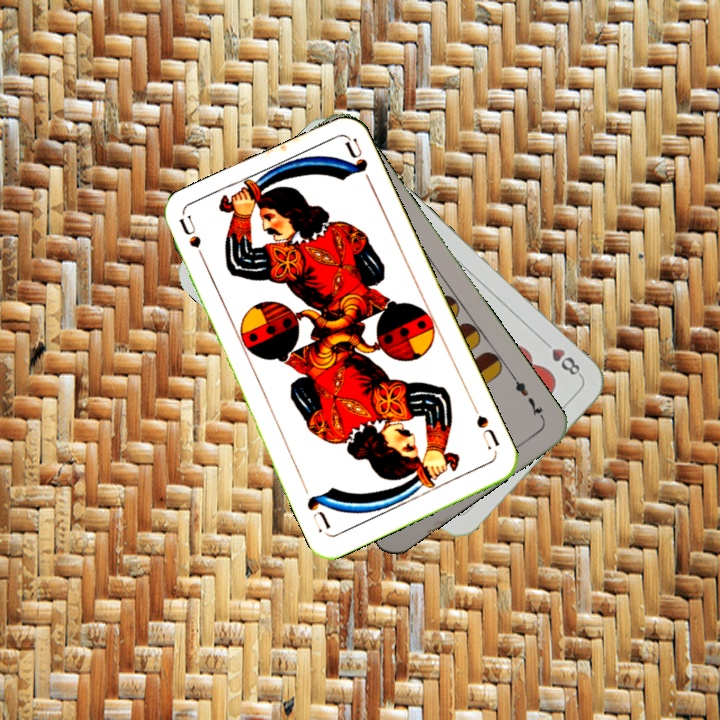E7: (507, 371, 547, 422)
H8: (537, 335, 585, 380)
SU: (175, 213, 211, 271), (468, 400, 502, 456)
